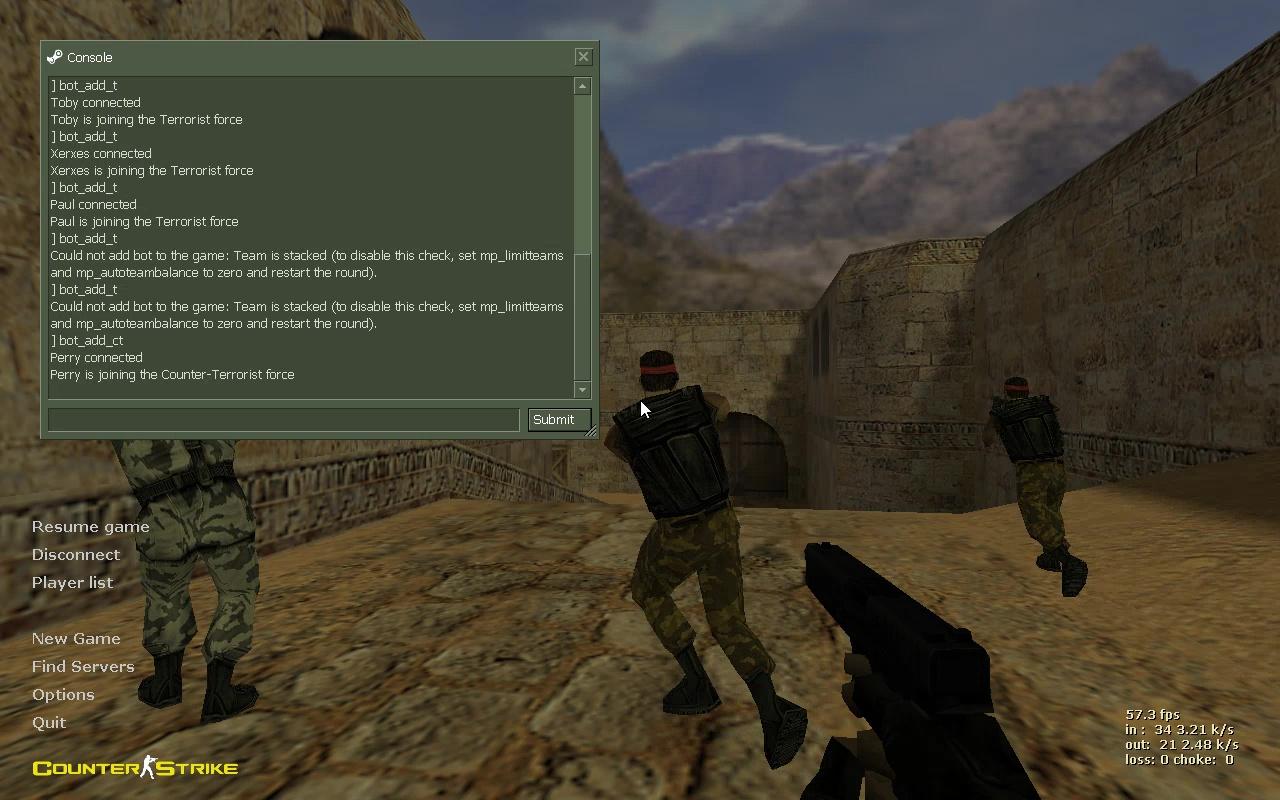terr1: (601, 354, 816, 764), (975, 381, 1093, 586)
